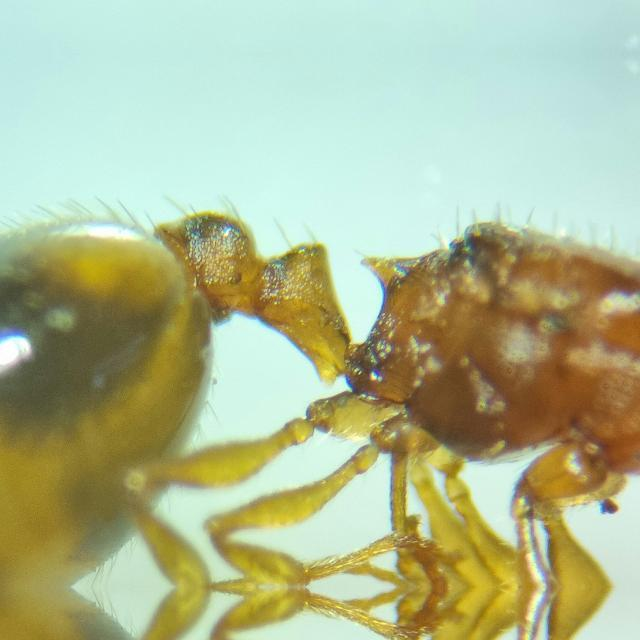Temnothorax: (2, 138, 640, 584)
